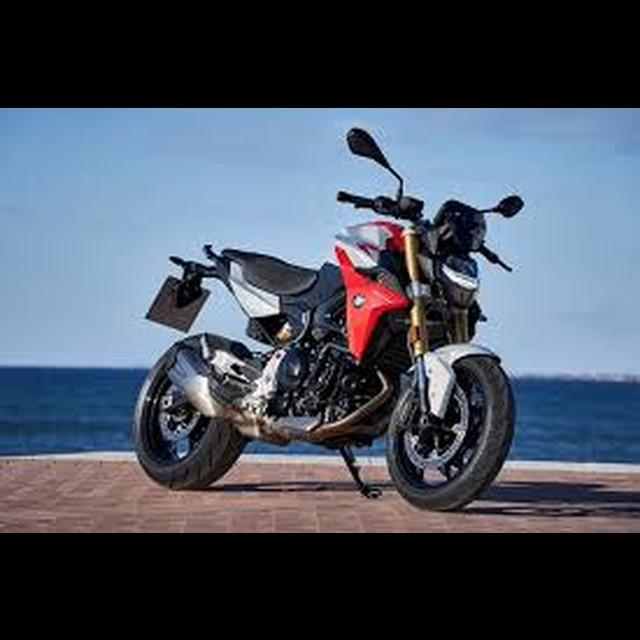motorcycle: (129, 123, 526, 515)
